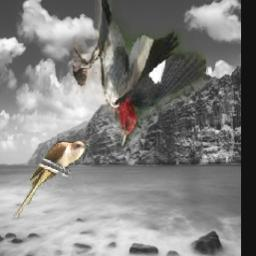Cuckoo: (14, 139, 91, 218)
Woodpecker: (73, 0, 206, 148)
